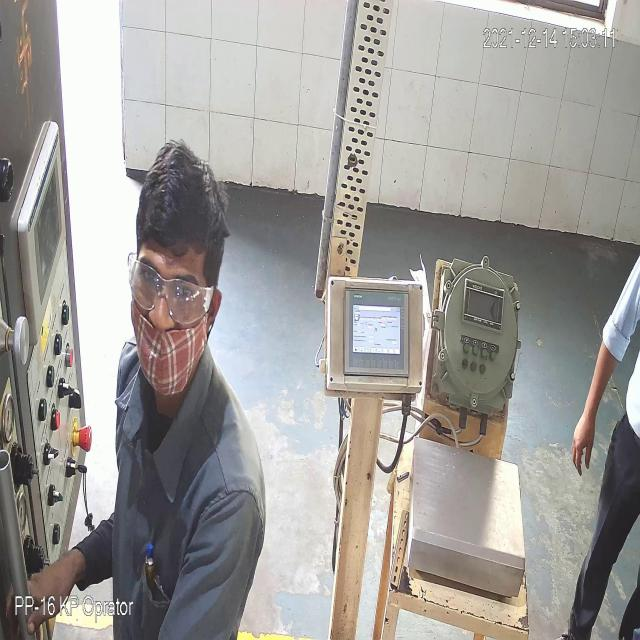No_Gloves: (567, 331, 624, 483)
